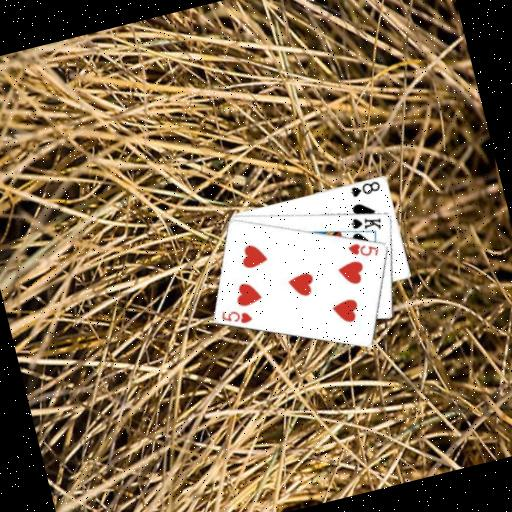5H: (344, 235, 382, 264), (217, 302, 255, 331)
8S: (347, 178, 383, 200)
KS: (346, 209, 385, 237)
